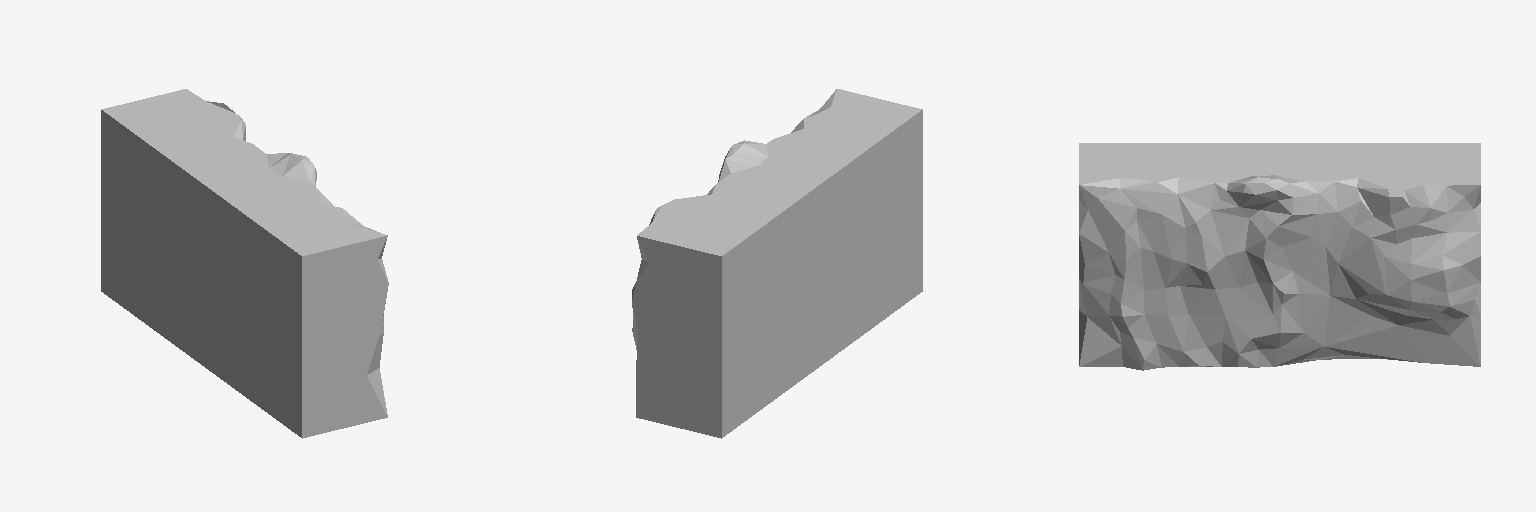
The model's file is 4x8wall.obj.
The picture shows the model from 3 angles: view 1: azimuth 30°, elevation 25°; view 2: azimuth 150°, elevation 25°; view 3: azimuth 270°, elevation 25°; orthographic projection.
Visible parts, largest first — view 1: Cube_Cube.020; view 2: Cube_Cube.020; view 3: Cube_Cube.020.
Boxes of the visible parts, x1=… form: Cube_Cube.020: x1=101, y1=89, x2=388, y2=438; Cube_Cube.020: x1=632, y1=89, x2=922, y2=438; Cube_Cube.020: x1=1079, y1=143, x2=1480, y2=370.
Bounding box in the file's own units: 2.5 × 4.21 × 8.